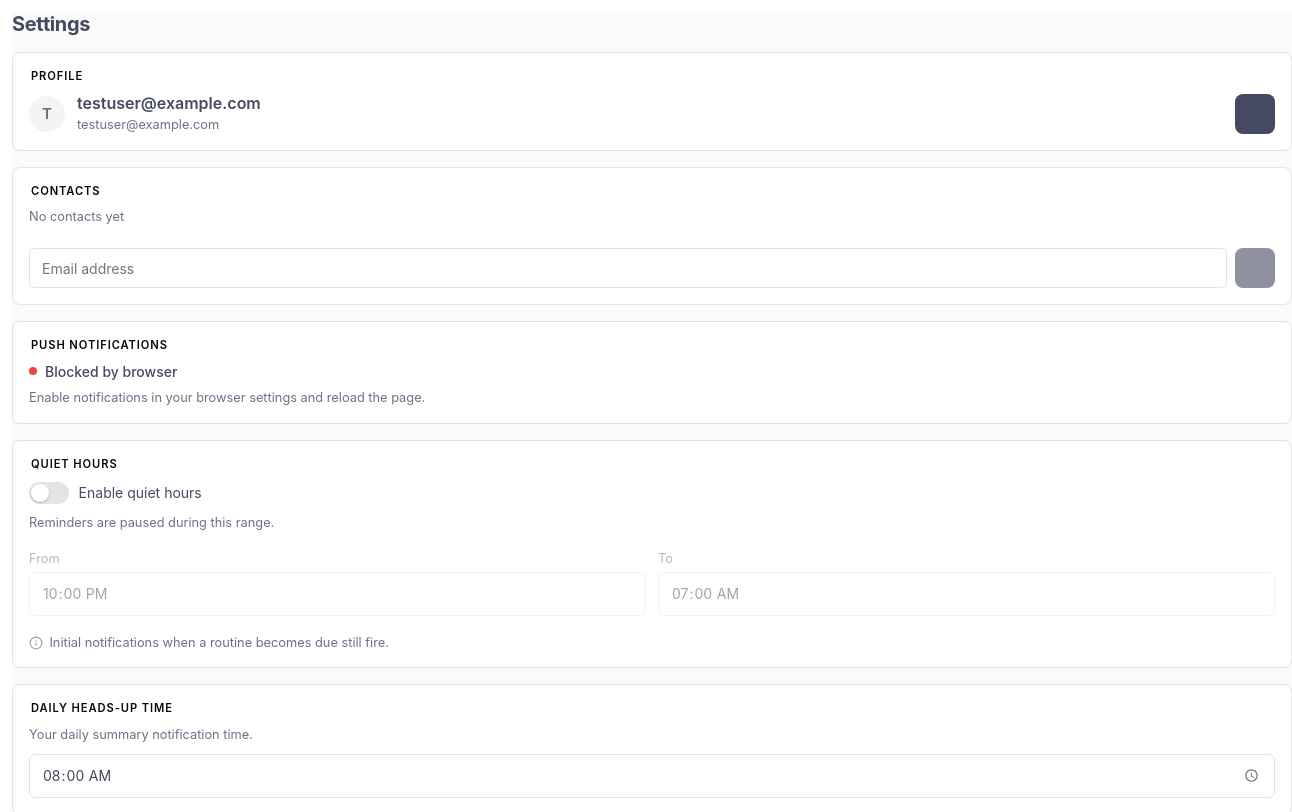
Test: SettingsPage › shows the cannot-add-yourself error when the backend returns 400 with that detail
The width and height of the screenshot is (1292, 812).
Expected: the text "Contacts" is shown, [31,184,100,198]
Type "me@nudge.test" into the field with test id "add-contact-email".
click(628, 268); type("me@nudge.test")  # box [29,248,1227,288]
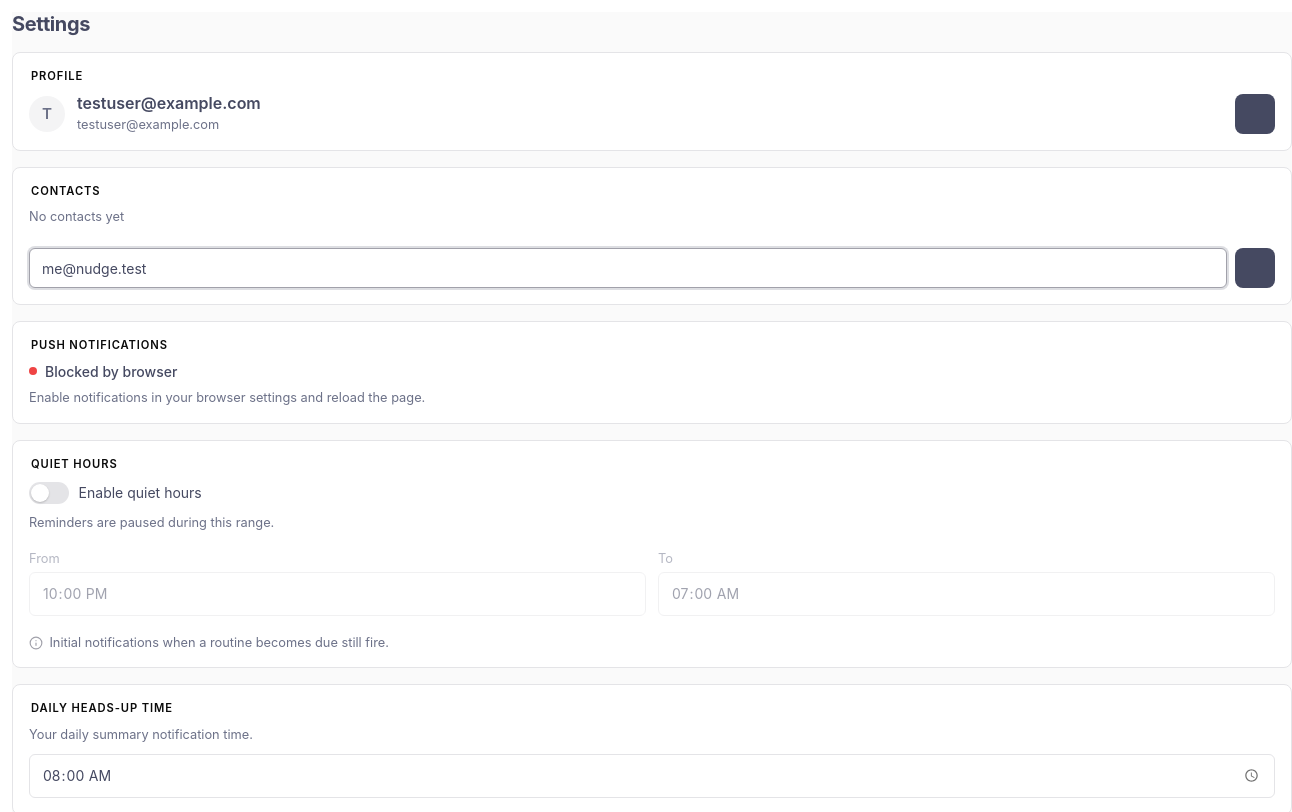
Click the button with test id "add-contact-submit".
click(1255, 268)  # box [1235,248,1275,288]
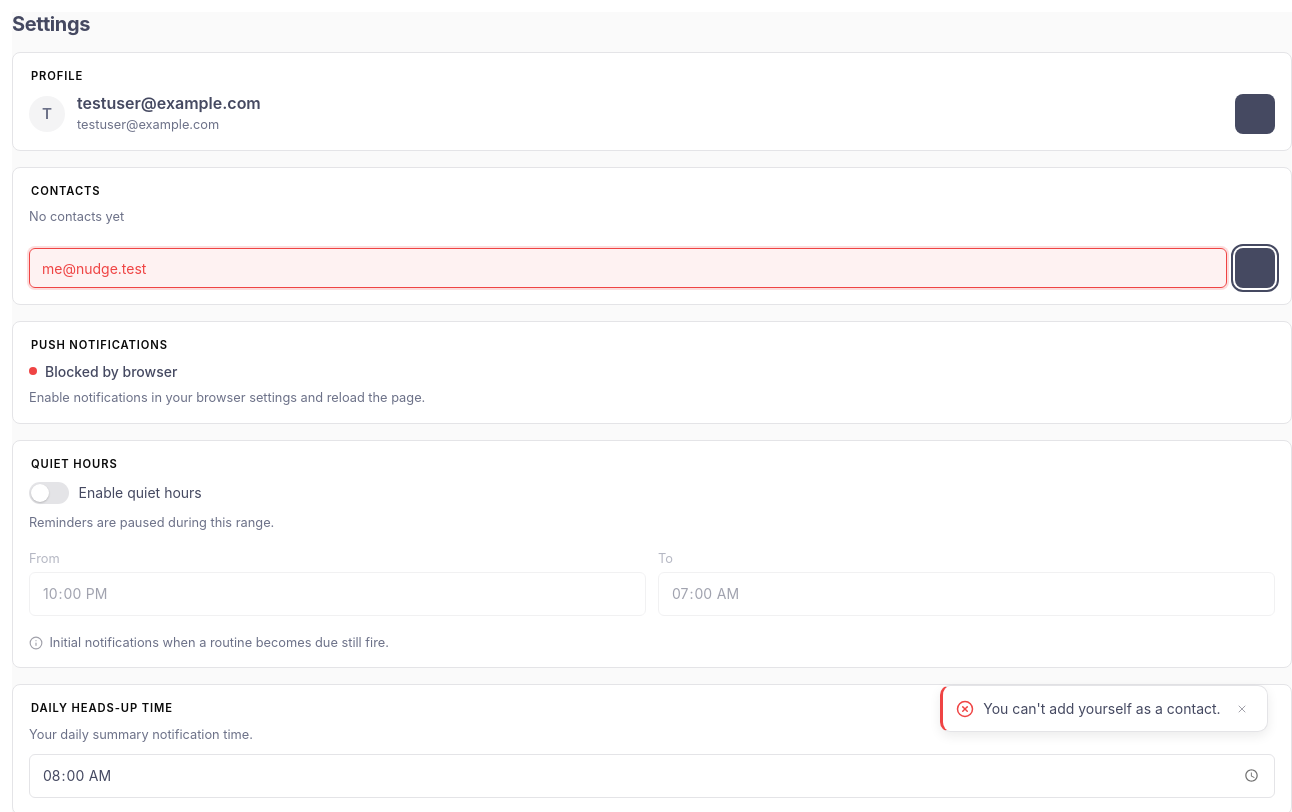
Expected: the text "You can't add yourself as a contact." is shown, [983,700,1221,718]
